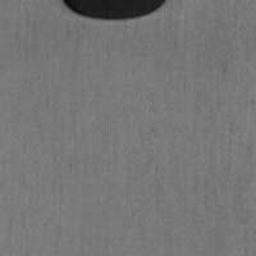Punching: (63, 0, 165, 20)
